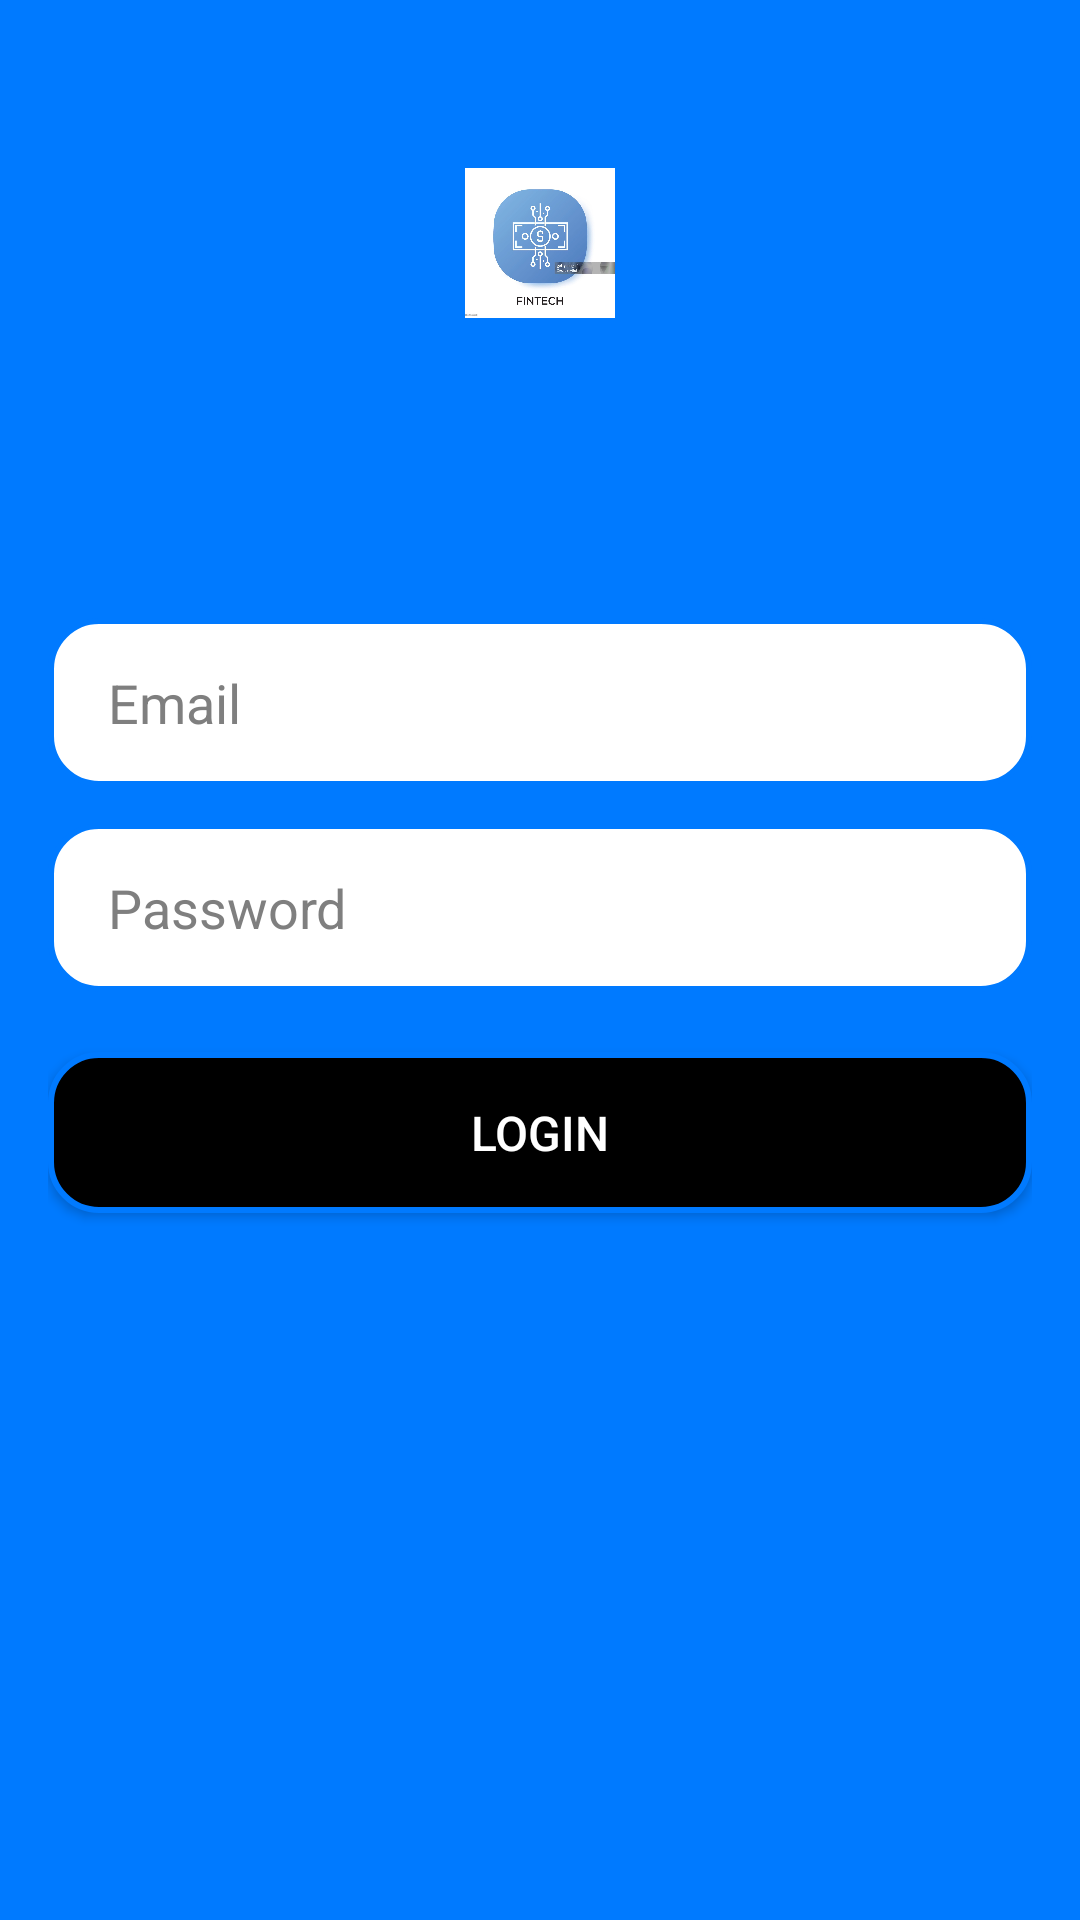

Screen size 1080×1920. Icon name, then its box in pixels as (x1, y1, x2, y2):
app: (465, 168, 615, 318)
